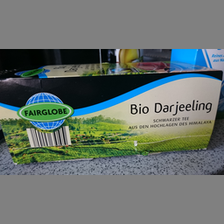tea: (1, 60, 224, 165)
